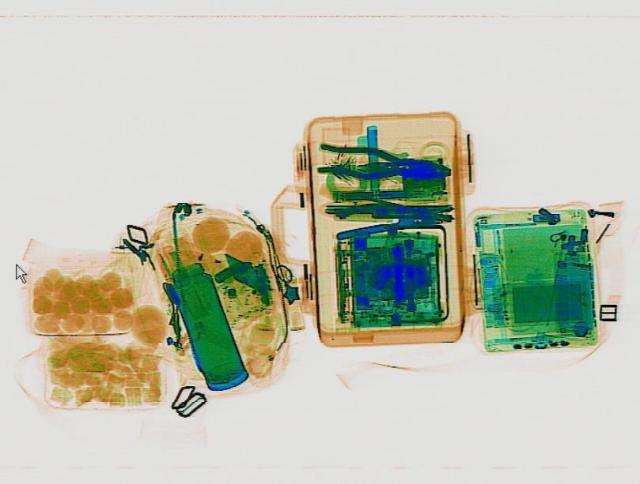Pliers: (312, 138, 452, 186)
